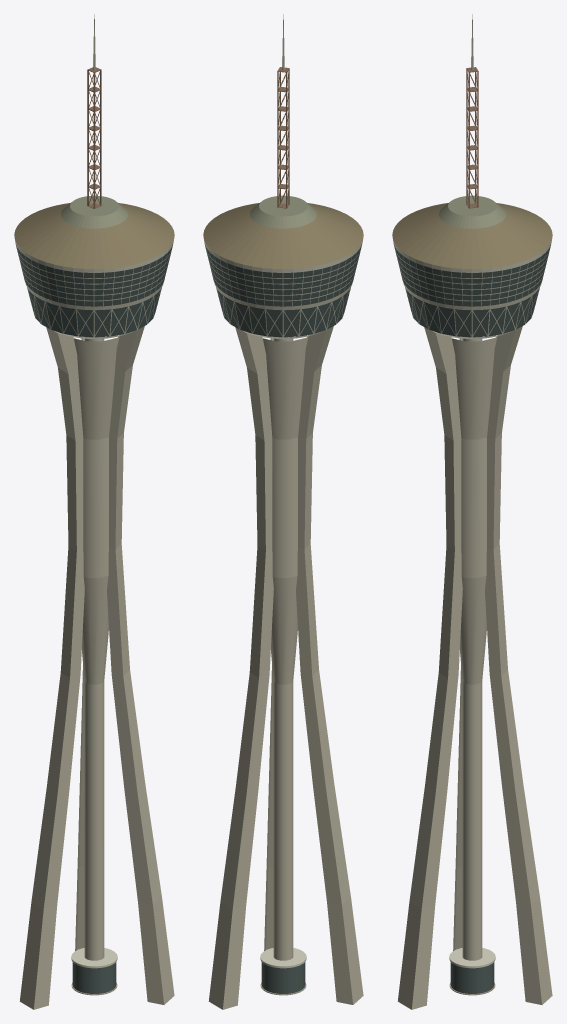
Rendered from strat-tower-las-vegas-near.glb.
3 views of the same model, side by side, from view 1: azimuth 30°, elevation 25°; view 2: azimuth 150°, elevation 25°; view 3: azimuth 270°, elevation 25° (orthographic).
Visible parts, largest first — view 1: strat-tower-las-vegas-0-concrete, strat-tower-las-vegas-0-glass, strat-tower-las-vegas-0-bronze, strat-tower-las-vegas-0-trim, strat-tower-las-vegas-0-roof, strat-tower-las-vegas-0-ride; view 2: strat-tower-las-vegas-0-concrete, strat-tower-las-vegas-0-glass, strat-tower-las-vegas-0-bronze, strat-tower-las-vegas-0-trim, strat-tower-las-vegas-0-roof, strat-tower-las-vegas-0-ride; view 3: strat-tower-las-vegas-0-concrete, strat-tower-las-vegas-0-glass, strat-tower-las-vegas-0-bronze, strat-tower-las-vegas-0-trim, strat-tower-las-vegas-0-roof, strat-tower-las-vegas-0-ride.
Boxes of the visible parts, bbox=[...] form: strat-tower-las-vegas-0-concrete: bbox=[19, 326, 174, 1009]; strat-tower-las-vegas-0-glass: bbox=[16, 245, 172, 993]; strat-tower-las-vegas-0-bronze: bbox=[14, 203, 174, 268]; strat-tower-las-vegas-0-trim: bbox=[15, 240, 173, 968]; strat-tower-las-vegas-0-roof: bbox=[61, 195, 127, 228]; strat-tower-las-vegas-0-ride: bbox=[87, 67, 101, 208]; strat-tower-las-vegas-0-concrete: bbox=[208, 326, 363, 1009]; strat-tower-las-vegas-0-glass: bbox=[205, 245, 361, 993]; strat-tower-las-vegas-0-bronze: bbox=[203, 203, 363, 268]; strat-tower-las-vegas-0-trim: bbox=[204, 240, 362, 968]; strat-tower-las-vegas-0-roof: bbox=[250, 195, 316, 228]; strat-tower-las-vegas-0-ride: bbox=[277, 67, 289, 208]; strat-tower-las-vegas-0-concrete: bbox=[397, 326, 552, 1009]; strat-tower-las-vegas-0-glass: bbox=[394, 245, 550, 993]; strat-tower-las-vegas-0-bronze: bbox=[392, 203, 552, 268]; strat-tower-las-vegas-0-trim: bbox=[393, 240, 551, 968]; strat-tower-las-vegas-0-roof: bbox=[439, 195, 505, 228]; strat-tower-las-vegas-0-ride: bbox=[466, 67, 478, 208].
Size of the model in its own units: 53.45 by 350 by 52.4.
